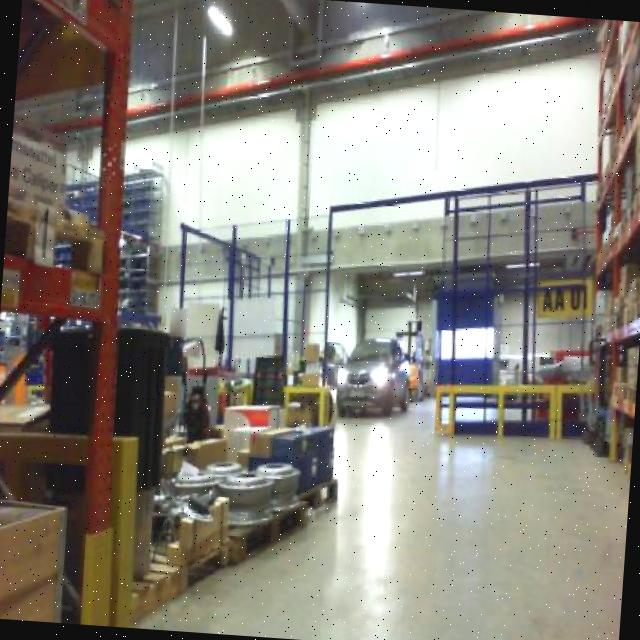pallet: (2, 190, 112, 281)
